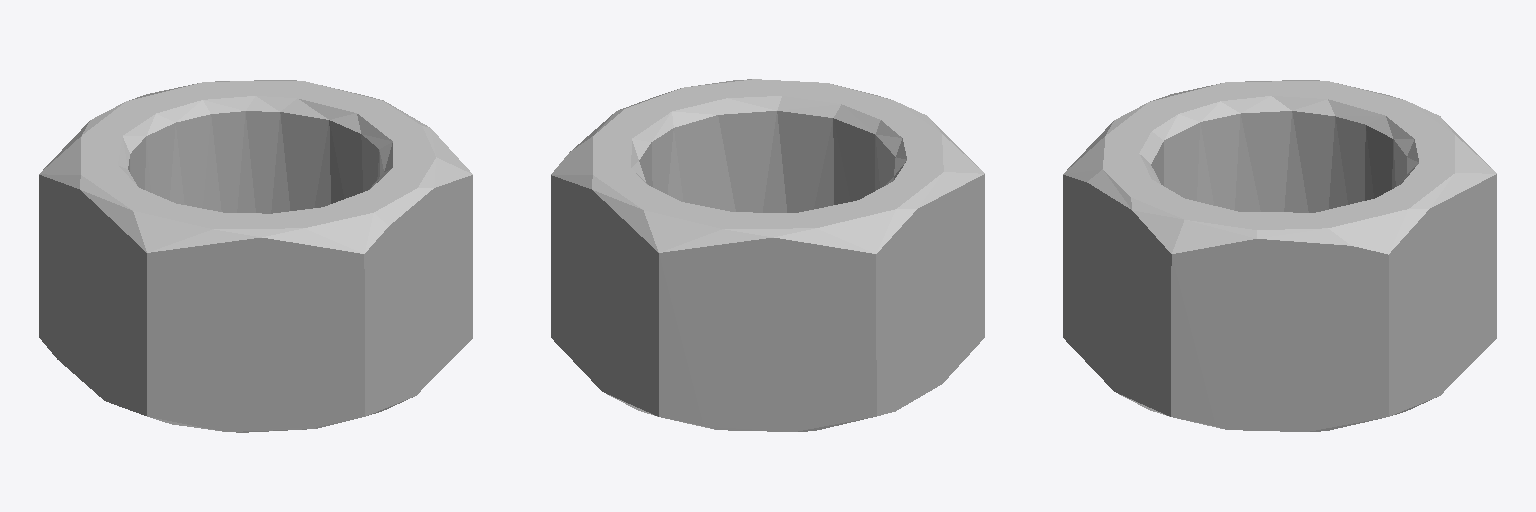
Rendered from m20 nuts for bearing housing.obj.
3 renders of one model, left to right at view 1: azimuth 30°, elevation 25°; view 2: azimuth 150°, elevation 25°; view 3: azimuth 270°, elevation 25°, orthographic.
Visible parts, largest first — view 1: imagetostl_mesh0; view 2: imagetostl_mesh0; view 3: imagetostl_mesh0.
Boxes of the visible parts, box(x1,y1,x2,y2) form: imagetostl_mesh0: box(39, 80, 472, 432); imagetostl_mesh0: box(551, 79, 984, 431); imagetostl_mesh0: box(1063, 80, 1496, 431).
Size of the model in its own units: 27.02 by 16 by 31.17.